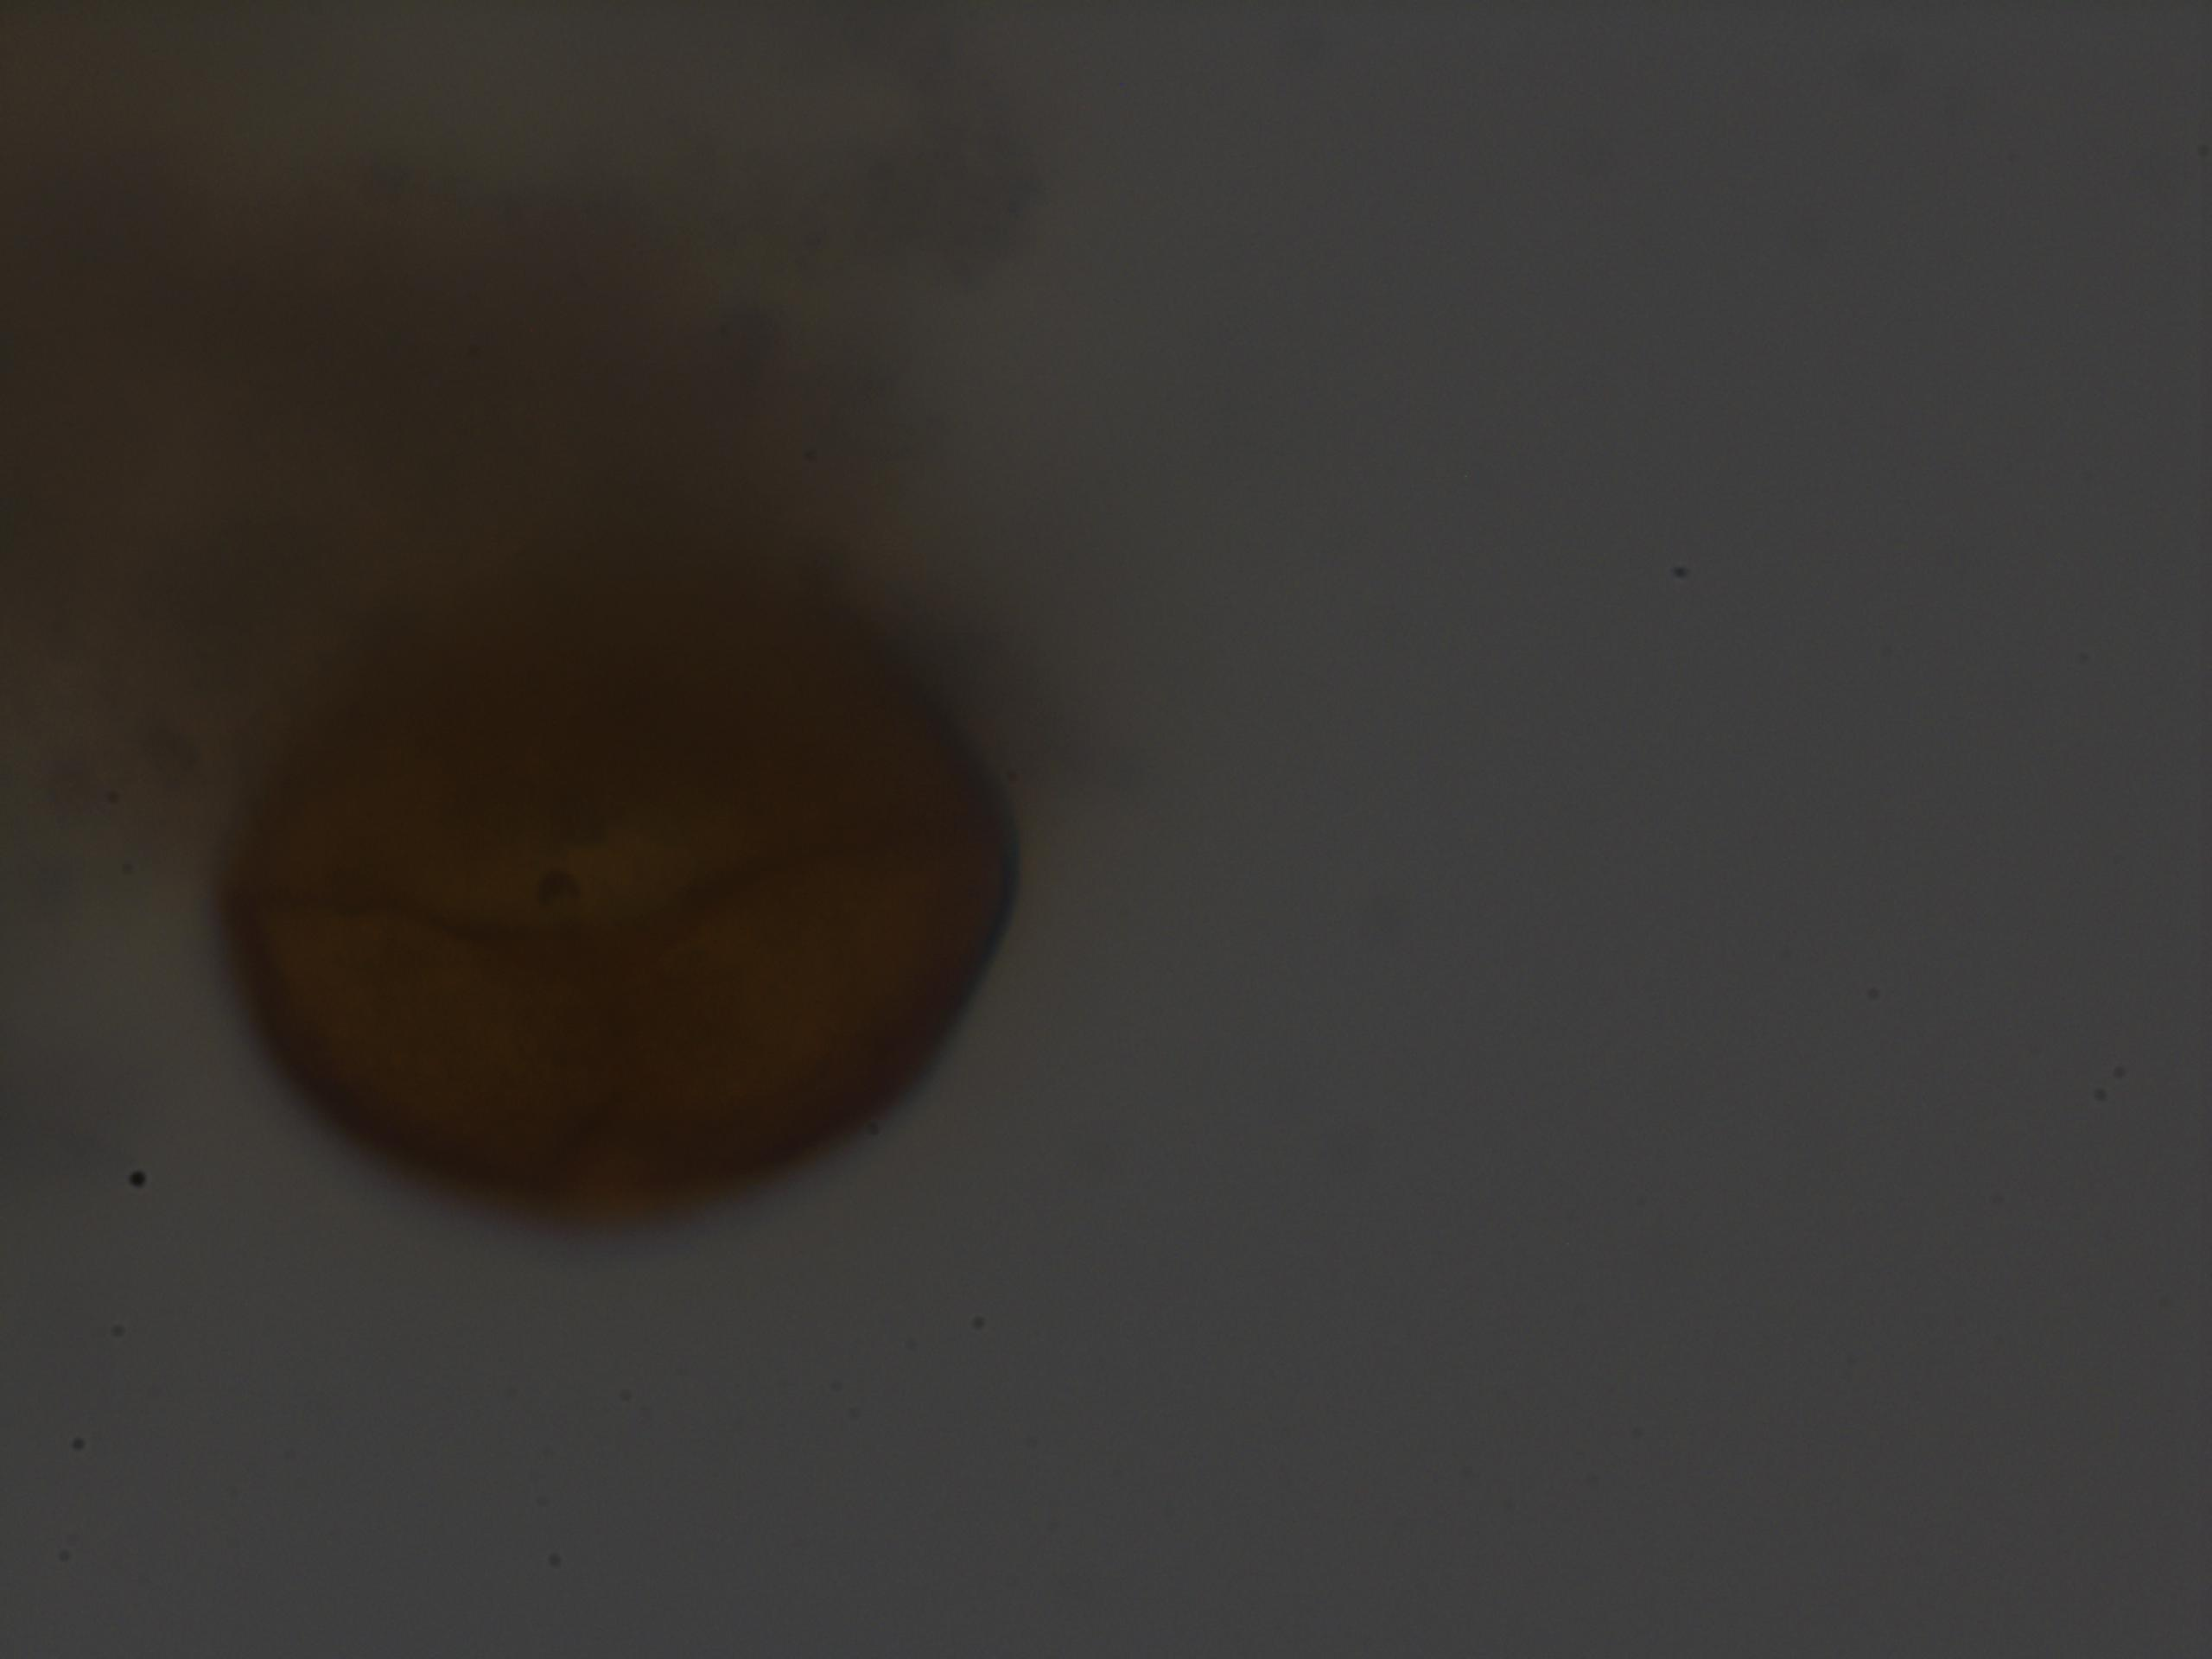protozoa: (199, 558, 1038, 1253)
